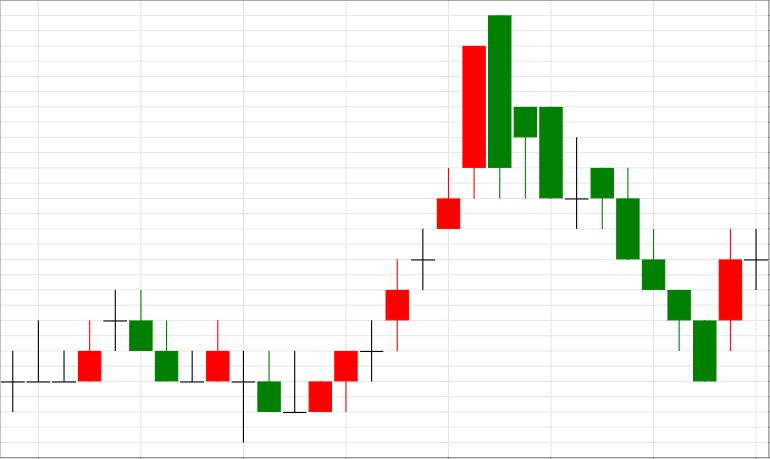bearish_engulfing_fall: (309, 16, 511, 412)
